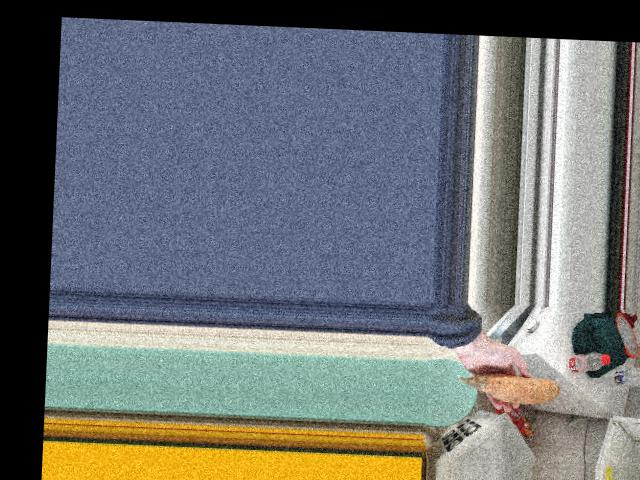sweet_potato: (463, 370, 560, 405)
